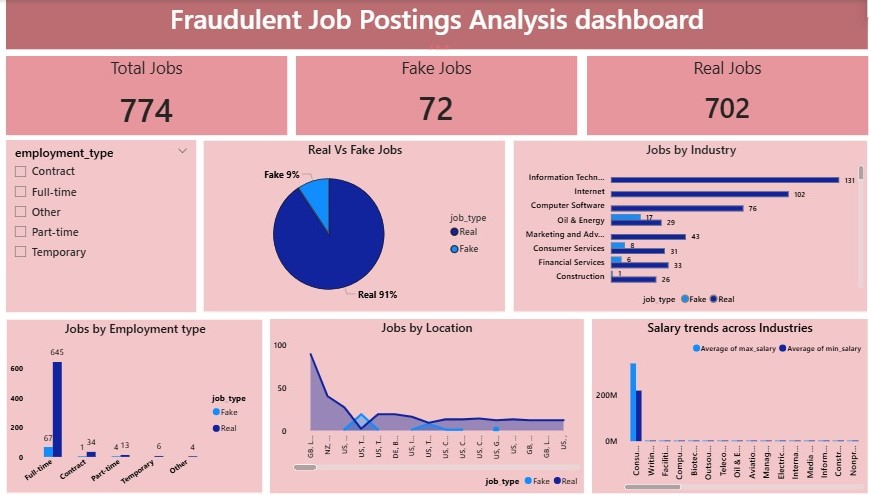

Layout of this report page (visuals, bound fields, positions):
{"tool":"powerbi","page":{"name":"Page 1","canvas":[1280,720],"ordinal":0},"visuals":[{"type":"card","title":"Total Jobs","fields":{"Values":["CountNonNull(cleaned_fake_job_postings.title)"]},"box":[18.7,80.6,404.6,113.8],"z":0},{"type":"pieChart","title":"Real  Vs  Fake Jobs","fields":{"Category":["cleaned_fake_job_postings.job_type"],"Y":["CountNonNull(cleaned_fake_job_postings.title)"]},"box":[302.4,201.6,436.3,247.7],"z":1000},{"type":"clusteredBarChart","title":" Jobs by Industry","fields":{"Category":["cleaned_fake_job_postings.industry"],"Series":["cleaned_fake_job_postings.job_type"],"Y":["CountNonNull(cleaned_fake_job_postings.title)"]},"box":[748.8,201.6,511.2,247.7],"z":2000},{"type":"clusteredColumnChart","title":"Jobs by Employment type","fields":{"Category":["cleaned_fake_job_postings.employment_type"],"Series":["cleaned_fake_job_postings.job_type"],"Y":["CountNonNull(cleaned_fake_job_postings.title)"]},"box":[18.7,459.4,370.1,250.6],"z":3000},{"type":"areaChart","title":"Jobs by Location","fields":{"Category":["cleaned_fake_job_postings.location"],"Series":["cleaned_fake_job_postings.job_type"],"Y":["CountNonNull(cleaned_fake_job_postings.title)"]},"box":[398.9,459.4,452.2,250.6],"z":4000},{"type":"clusteredColumnChart","title":"Salary trends across Industries","fields":{"Category":["cleaned_fake_job_postings.industry"],"Y":["Avg(cleaned_fake_job_postings.max_salary)","Avg(cleaned_fake_job_postings.min_salary)"]},"box":[862.6,459.4,397.4,250.6],"z":5000},{"type":"slicer","fields":{"Values":["cleaned_fake_job_postings.employment_type"]},"box":[18.7,201.6,273.6,247.7],"z":6000},{"type":"card","title":"Fake Jobs","fields":{"Values":["CountNonNull(cleaned_fake_job_postings.Fake Jobs)"]},"box":[436.3,80.6,404.6,113.8],"z":7000},{"type":"card","title":"Real Jobs","fields":{"Values":["cleaned_fake_job_postings.Real Jobs"]},"box":[855.4,80.6,404.6,113.8],"z":8000},{"type":"card","title":"Fraudulent Job Postings Analysis dashboard","fields":{"Values":["Sum(cleaned_fake_job_postings.job_id)"]},"box":[18.7,0,1241.3,70.6],"z":9000}]}

Visuals, with their boxes in screenshot pixels (x1, y1, x2, y2), scaled from the page's 1280x720 canvas onto the 869x495 screenshot:
"Total Jobs" card: left=13, top=55, right=287, bottom=134
"Real  Vs  Fake Jobs" pieChart: left=205, top=139, right=502, bottom=309
" Jobs by Industry" clusteredBarChart: left=508, top=139, right=855, bottom=309
"Jobs by Employment type" clusteredColumnChart: left=13, top=316, right=264, bottom=488
"Jobs by Location" areaChart: left=271, top=316, right=578, bottom=488
"Salary trends across Industries" clusteredColumnChart: left=586, top=316, right=855, bottom=488
slicer - cleaned_fake_job_postings.employment_type: left=13, top=139, right=198, bottom=309
"Fake Jobs" card: left=296, top=55, right=571, bottom=134
"Real Jobs" card: left=581, top=55, right=855, bottom=134
"Fraudulent Job Postings Analysis dashboard" card: left=13, top=0, right=855, bottom=49
